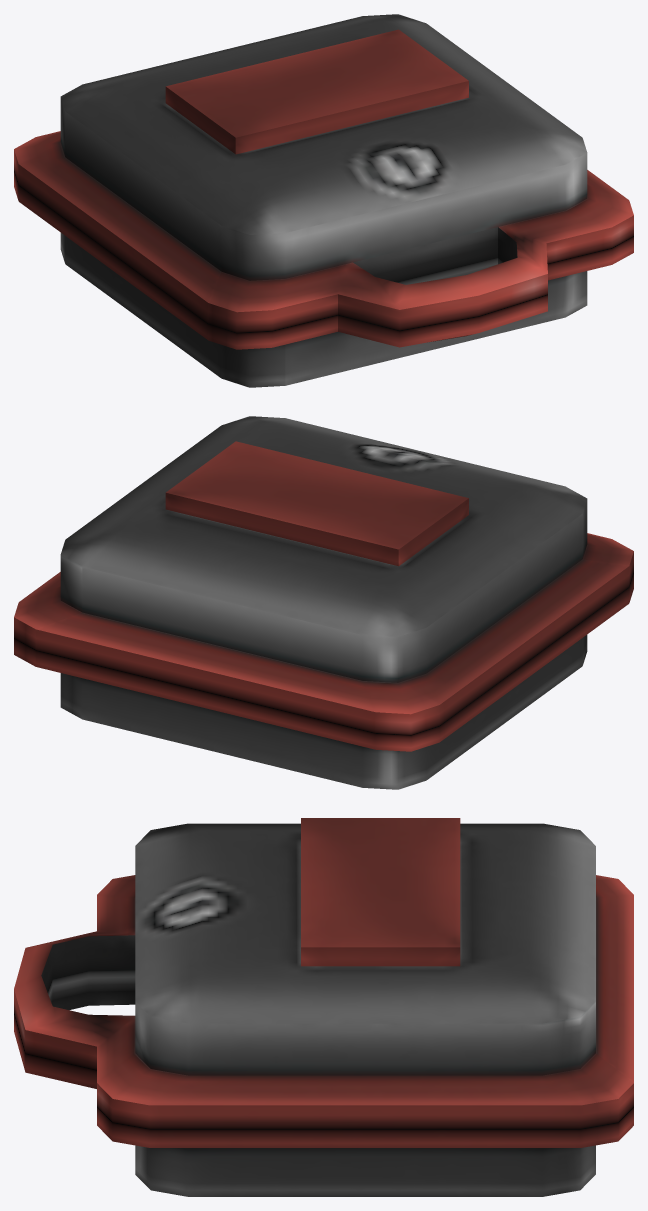
File: Box_Ground.fbx
3 views of the same model, one above another, from view 1: azimuth 30°, elevation 25°; view 2: azimuth 150°, elevation 25°; view 3: azimuth 270°, elevation 25° (orthographic). The views are drawn at different scales.
Visible parts, largest first — view 1: G_Box; view 2: G_Box; view 3: G_Box.
Part boxes in pixels (left/top/right/bottom): G_Box: left=14, top=14, right=633, bottom=387; G_Box: left=14, top=416, right=633, bottom=789; G_Box: left=14, top=818, right=633, bottom=1196.
Size of the model in its own units: 0.0747 by 0.032 by 0.0839.
